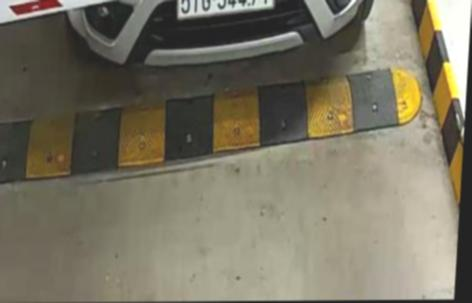License_Plate: (175, 0, 278, 24)
